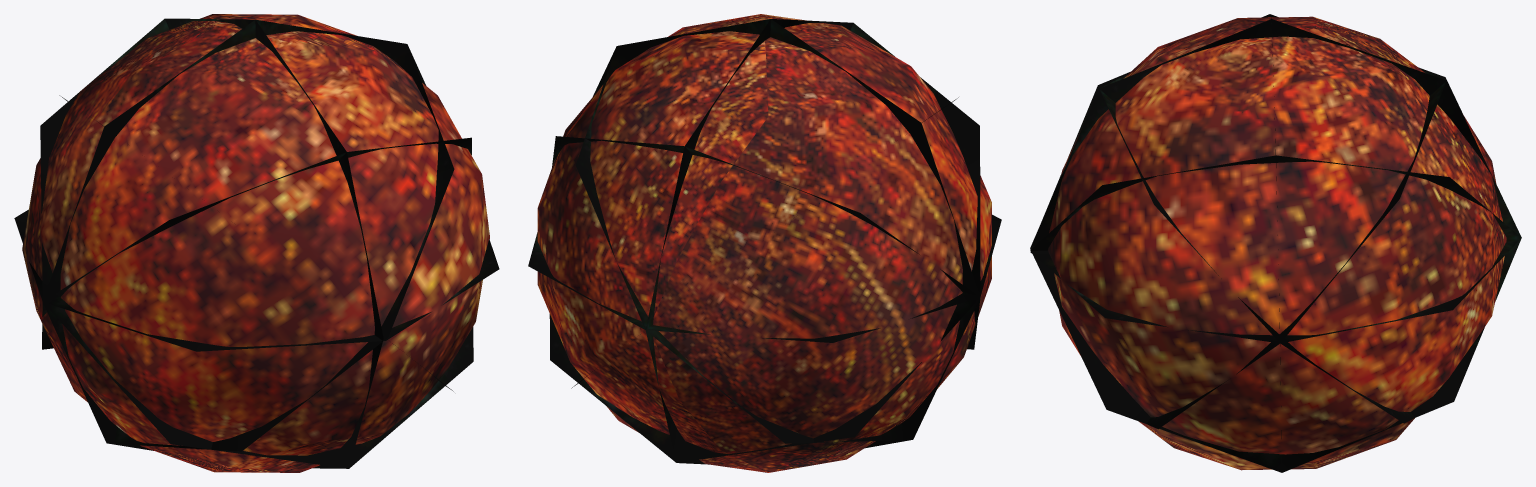
The model's file is af_fire.fbx.
3 views of the same model, side by side, from view 1: azimuth 30°, elevation 25°; view 2: azimuth 150°, elevation 25°; view 3: azimuth 270°, elevation 25° (orthographic).
Parts seen in each view (by area): view 1: 1, 2; view 2: 1, 2; view 3: 1, 2.
Boxes of the visible parts, x1,y1,x2,y2 form: 1: [22, 14, 489, 472]; 2: [14, 18, 499, 468]; 1: [537, 14, 991, 472]; 2: [528, 19, 1001, 464]; 1: [1048, 16, 1506, 470]; 2: [1030, 14, 1521, 472].
Size of the model in its own units: 0.3209 by 0.3209 by 0.3209.
